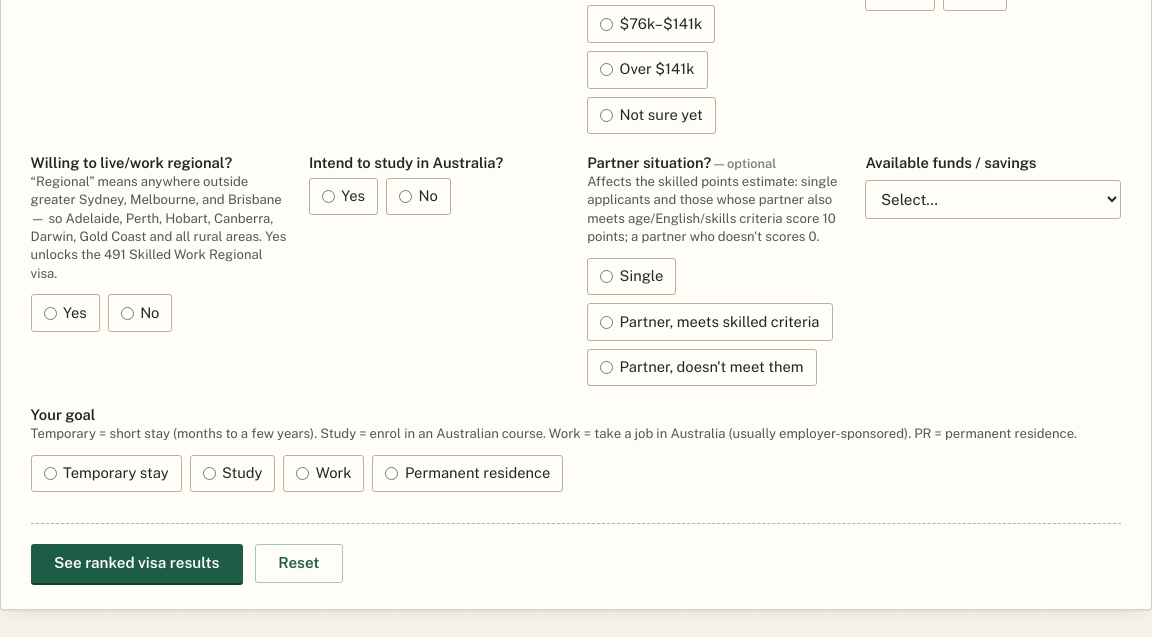
Test: WizardForm › blocks submission and shows error summary when required fields are missing
The image size is (1152, 637).
(page scrolled)
What coordinates should you click on to do the following:
click the button "See ranked visa results"
I would click on:
 (137, 563)
Its box is [31, 544, 243, 583].
(page scrolled)
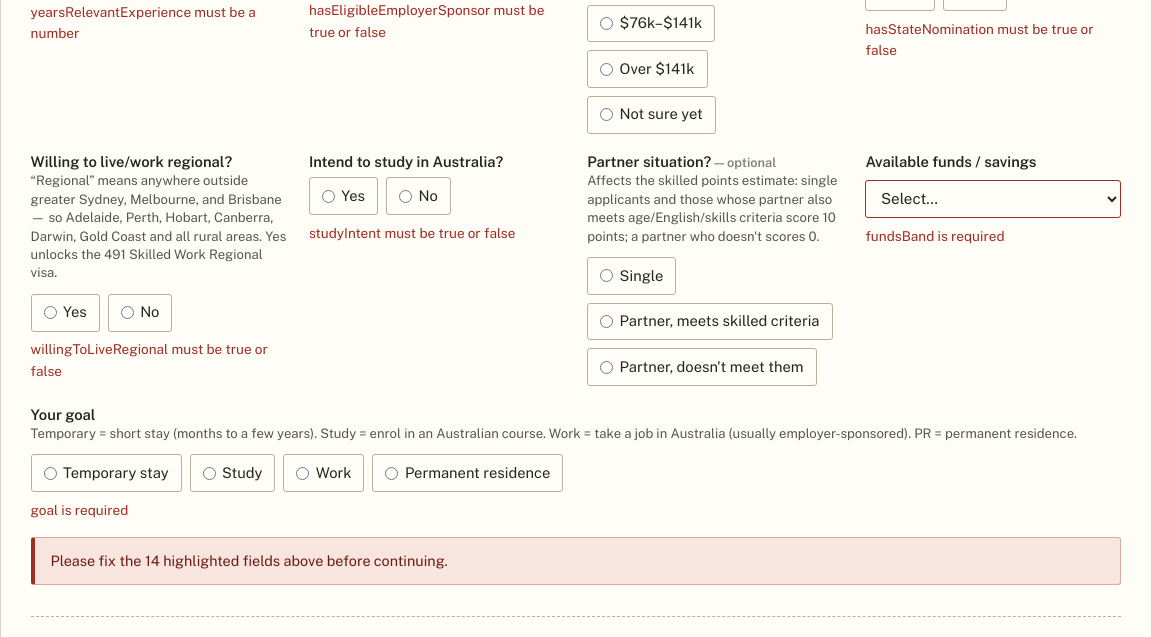
Now the message shows "fix the", box [51, 552, 145, 569]
